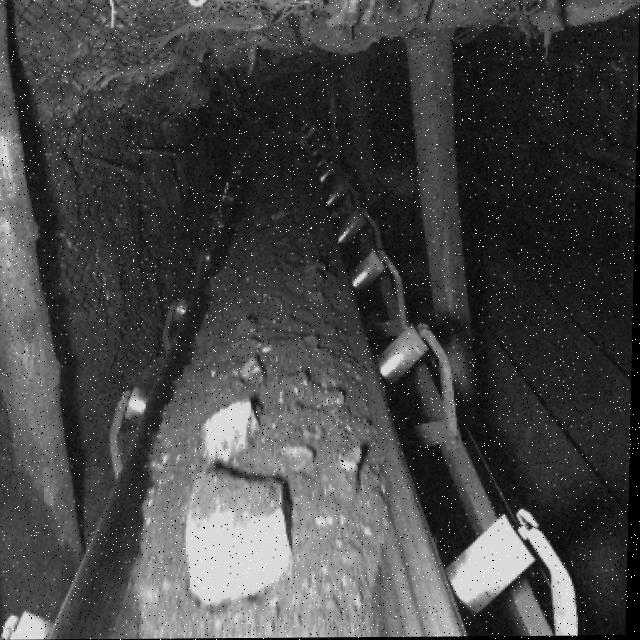large_sized_coal: (185, 475, 293, 606), (200, 399, 260, 463), (287, 373, 348, 411), (277, 445, 316, 478), (230, 356, 271, 386), (336, 440, 364, 478), (212, 265, 245, 296)
